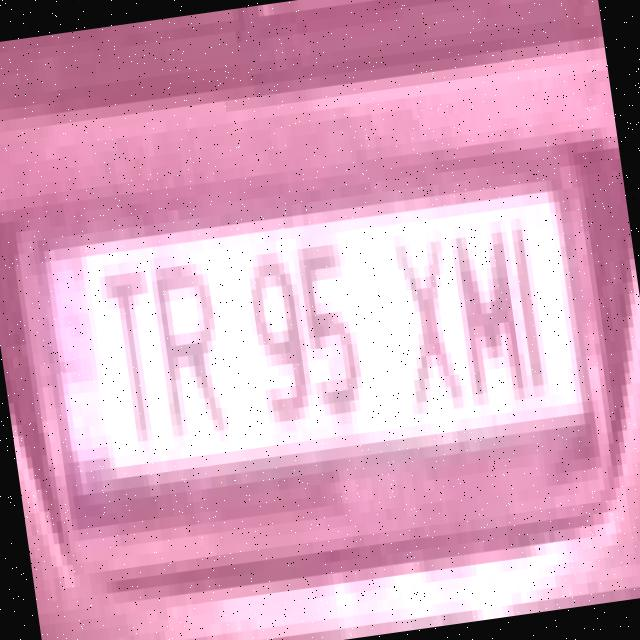Autre: (34, 190, 584, 481)
